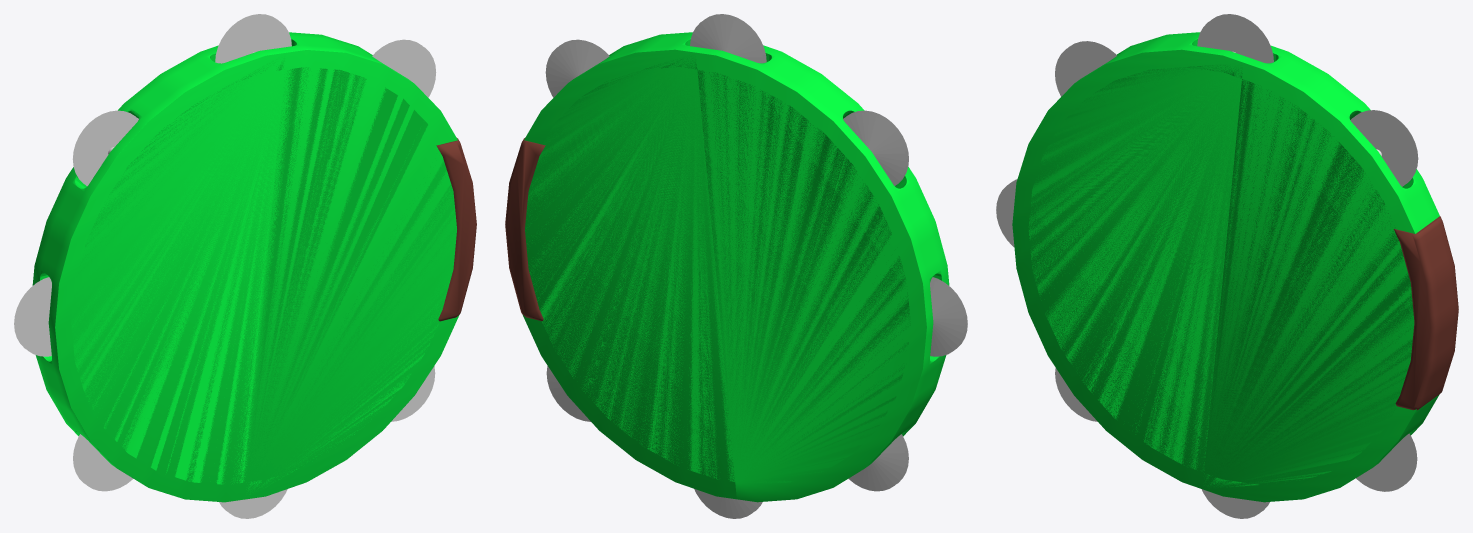
Rendered from tambarin.fbx.
The picture shows the model from 3 angles, left to right: view 1: azimuth 30°, elevation 25°; view 2: azimuth 150°, elevation 25°; view 3: azimuth 330°, elevation 25°; orthographic projection.
Visible parts, largest first — view 1: 枠, 持ちて, 円錐.013, 円錐.003, 円錐.001, 円錐.015, 円錐.011, 円錐.005, 円錐.009; view 2: 枠, 持ちて, 円錐.012, 円錐.002, 円錐, 円錐.014, 円錐.010, 円錐.004, 円錐.008; view 3: 枠, 持ちて, 円錐.015, 円錐.003, 円錐.009, 円錐.013, 円錐.005, 円錐.001, 円錐.011.
Boxes of the visible parts, bbox=[...] form: 枠: bbox=[32, 32, 459, 502]; 持ちて: bbox=[436, 138, 476, 321]; 円錐.013: bbox=[76, 113, 138, 186]; 円錐.003: bbox=[218, 16, 291, 63]; 円錐.001: bbox=[17, 279, 51, 356]; 円錐.015: bbox=[375, 42, 436, 97]; 円錐.011: bbox=[76, 436, 133, 491]; 円錐.005: bbox=[221, 489, 287, 518]; 円錐.009: bbox=[391, 366, 435, 421]; 枠: bbox=[522, 32, 949, 502]; 持ちて: bbox=[505, 138, 545, 321]; 円錐.012: bbox=[843, 113, 905, 185]; 円錐.002: bbox=[690, 16, 763, 63]; 円錐: bbox=[930, 280, 964, 356]; 円錐.014: bbox=[545, 42, 606, 97]; 円錐.010: bbox=[848, 436, 905, 491]; 円錐.004: bbox=[694, 489, 760, 518]; 円錐.008: bbox=[546, 366, 590, 421]; 枠: bbox=[1012, 32, 1439, 502]; 持ちて: bbox=[1394, 216, 1458, 410]; 円錐.015: bbox=[1350, 112, 1414, 186]; 円錐.003: bbox=[1197, 16, 1270, 63]; 円錐.009: bbox=[1356, 436, 1414, 491]; 円錐.013: bbox=[1055, 43, 1113, 96]; 円錐.005: bbox=[1201, 489, 1267, 518]; 円錐.001: bbox=[996, 180, 1016, 246]; 円錐.011: bbox=[1055, 368, 1097, 421].
Bounding box in the file's own units: 10.97 × 11.66 × 1.1.
